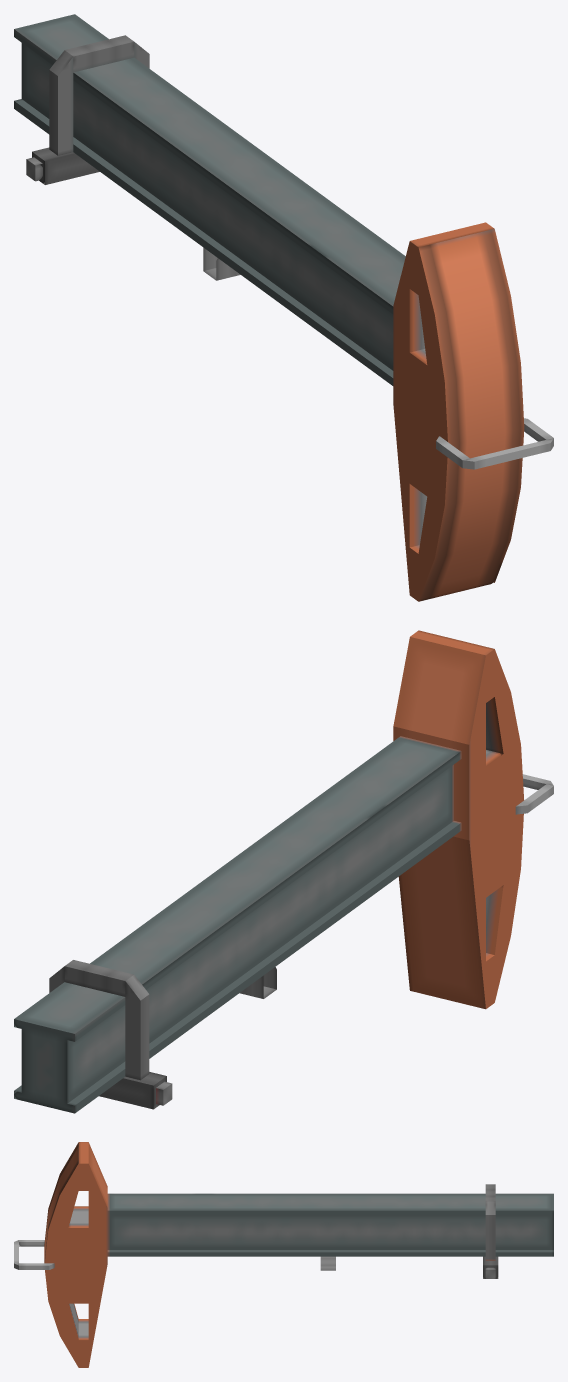
Rendered from pumpjack_head.obj.
3 renders of one model, top to bottom at view 1: azimuth 30°, elevation 25°; view 2: azimuth 150°, elevation 25°; view 3: azimuth 270°, elevation 25°, orthographic. The views are drawn at different scales.
Visible parts, largest first — view 1: Head; view 2: Head; view 3: Head.
Part boxes in pixels (bbox=[...]): Head: bbox=[14, 14, 553, 601]; Head: bbox=[14, 630, 553, 1113]; Head: bbox=[14, 1142, 553, 1367].
Size of the model in its own units: 1.12 by 2.78 by 6.66.
